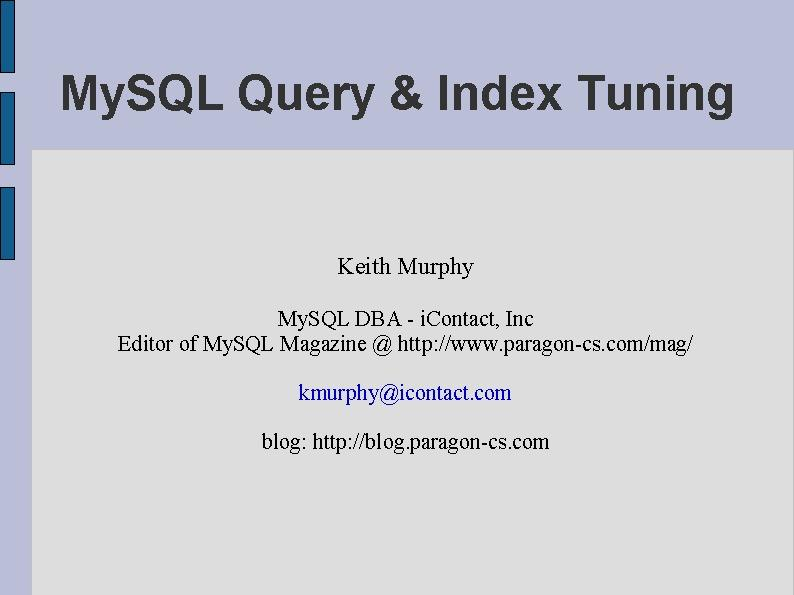subtitle: (80, 248, 730, 477)
title: (52, 46, 748, 142)
